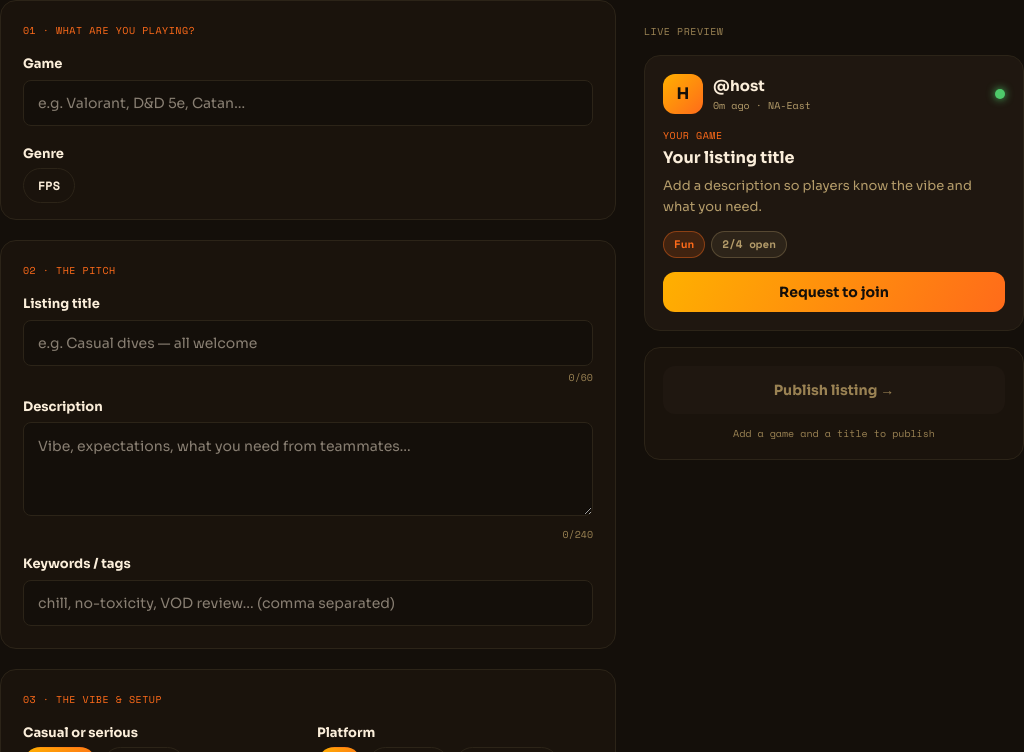
Test case: "Did you mean?" (036/FR-004/005) › appears on a near-miss and corrects the field on click
Type "Valornt" into the dropdown labelled "Game". click: [308, 102]
box: top-left (23, 80), bottom-right (593, 126)
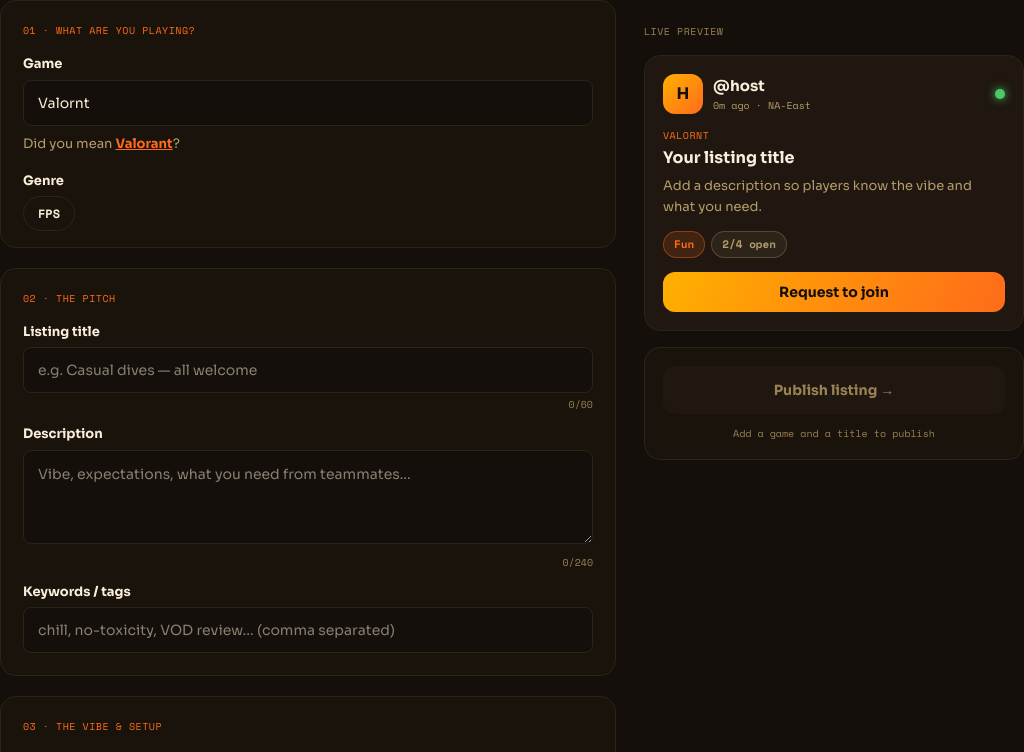
Expected: the button "Valorant" is shown
Click the button "Valorant". click: [144, 143]
box: top-left (115, 134), bottom-right (173, 153)
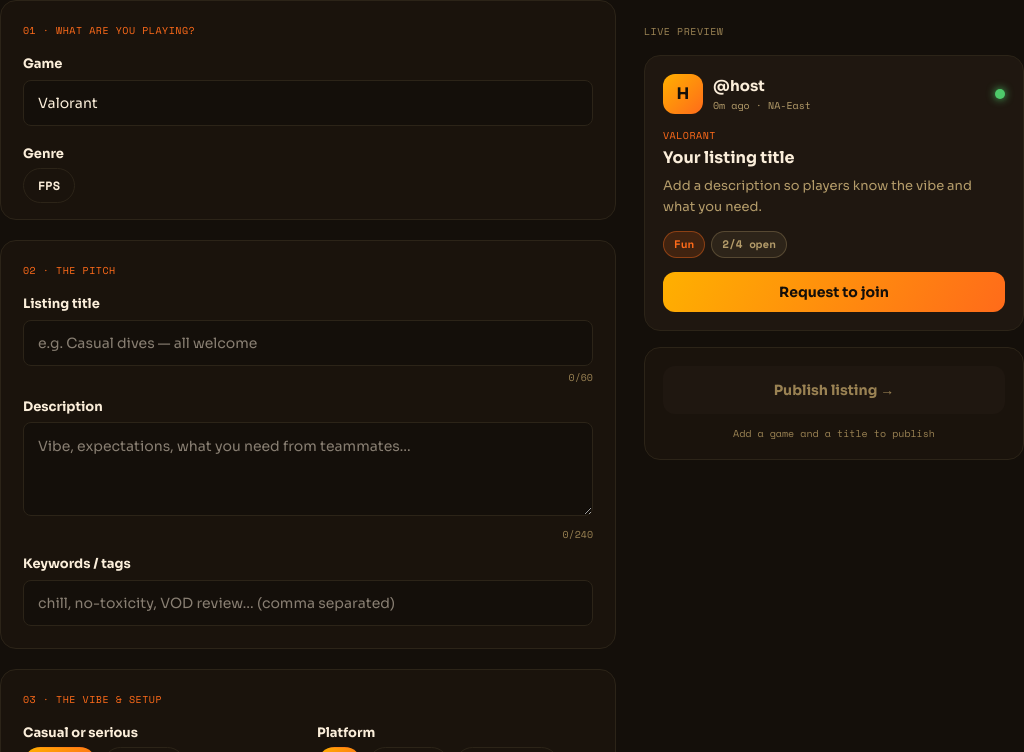
Expected: the dropdown labelled "Game" holds "Valorant", top-left (23, 80), bottom-right (593, 126)
